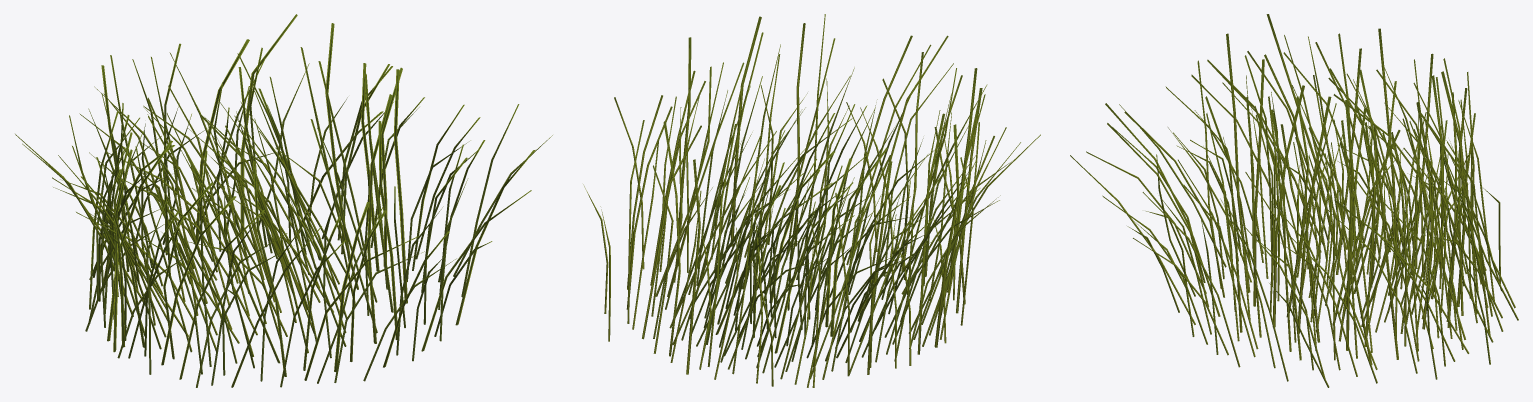
Rendered from grass8.obj.
3 views of the same model, side by side, from view 1: azimuth 30°, elevation 25°; view 2: azimuth 150°, elevation 25°; view 3: azimuth 270°, elevation 25° (orthographic). The views are drawn at different scales.
Parts seen in each view (by area): view 1: tree; view 2: tree; view 3: tree.
Part boxes in pixels (left/top/right/bottom): tree: left=15, top=14, right=552, bottom=387; tree: left=583, top=14, right=1040, bottom=387; tree: left=1070, top=14, right=1518, bottom=387.
Size of the model in its own units: 224 by 121 by 208.
1 material, 1 textured.
